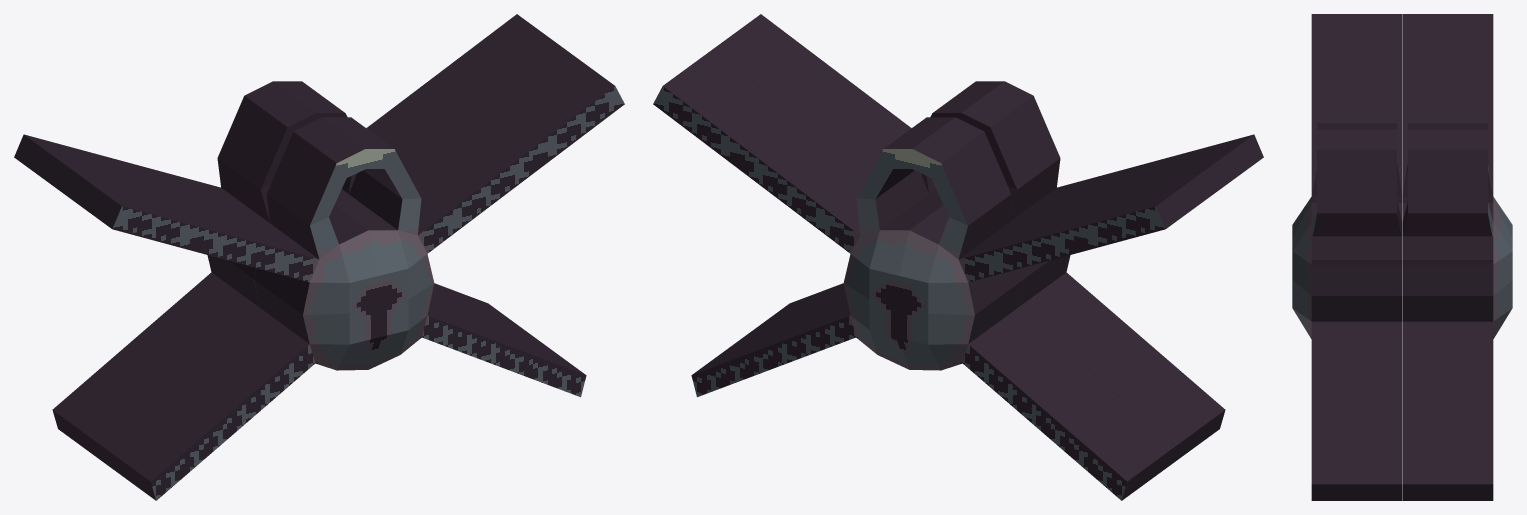
File: padlock.glb
3 views of the same model, side by side, from view 1: azimuth 30°, elevation 25°; view 2: azimuth 150°, elevation 25°; view 3: azimuth 270°, elevation 25° (orthographic). The views are drawn at different scales.
Visible parts, largest first — view 1: Cube.005; view 2: Cube.005; view 3: Cube.005.
Boxes of the visible parts, <box> form: Cube.005: <box>14,14,624,500</box>; Cube.005: <box>653,14,1263,500</box>; Cube.005: <box>1292,14,1512,500</box>.
Bounding box in the file's own units: 5.15 × 2.91 × 2.07.
Materials: 1 (1 with a texture image).
